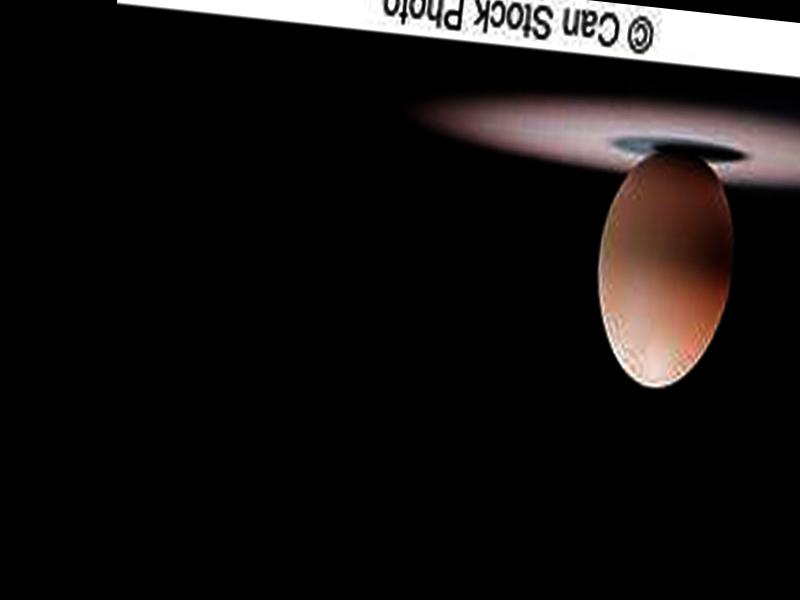Eggs: (585, 141, 748, 394)
